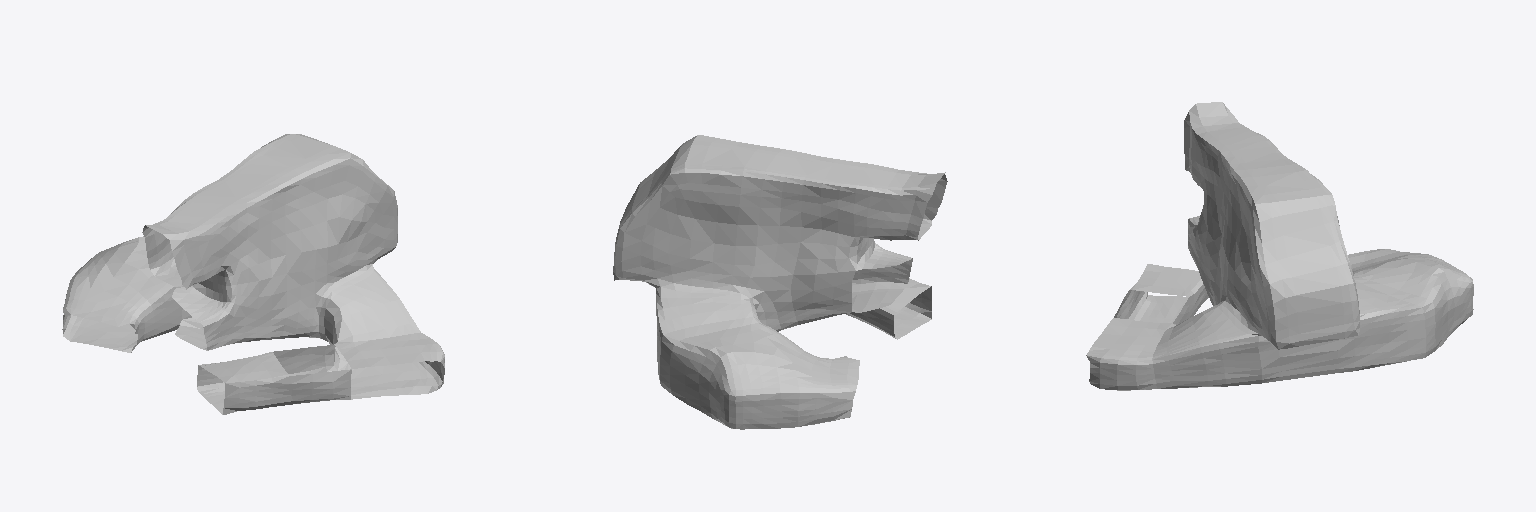
Rendered from Env4_lowUV.obj.
The picture shows the model from 3 angles: view 1: azimuth 30°, elevation 25°; view 2: azimuth 150°, elevation 25°; view 3: azimuth 270°, elevation 25°; orthographic projection.
Parts seen in each view (by area): view 1: Env4_lowUV:Group62713; view 2: Env4_lowUV:Group62713; view 3: Env4_lowUV:Group62713.
Boxes of the visible parts, x1=… form: Env4_lowUV:Group62713: x1=62, y1=134, x2=444, y2=414; Env4_lowUV:Group62713: x1=613, y1=135, x2=947, y2=429; Env4_lowUV:Group62713: x1=1086, y1=102, x2=1473, y2=390.
Bounding box in the file's own units: 131 × 82.41 × 157.